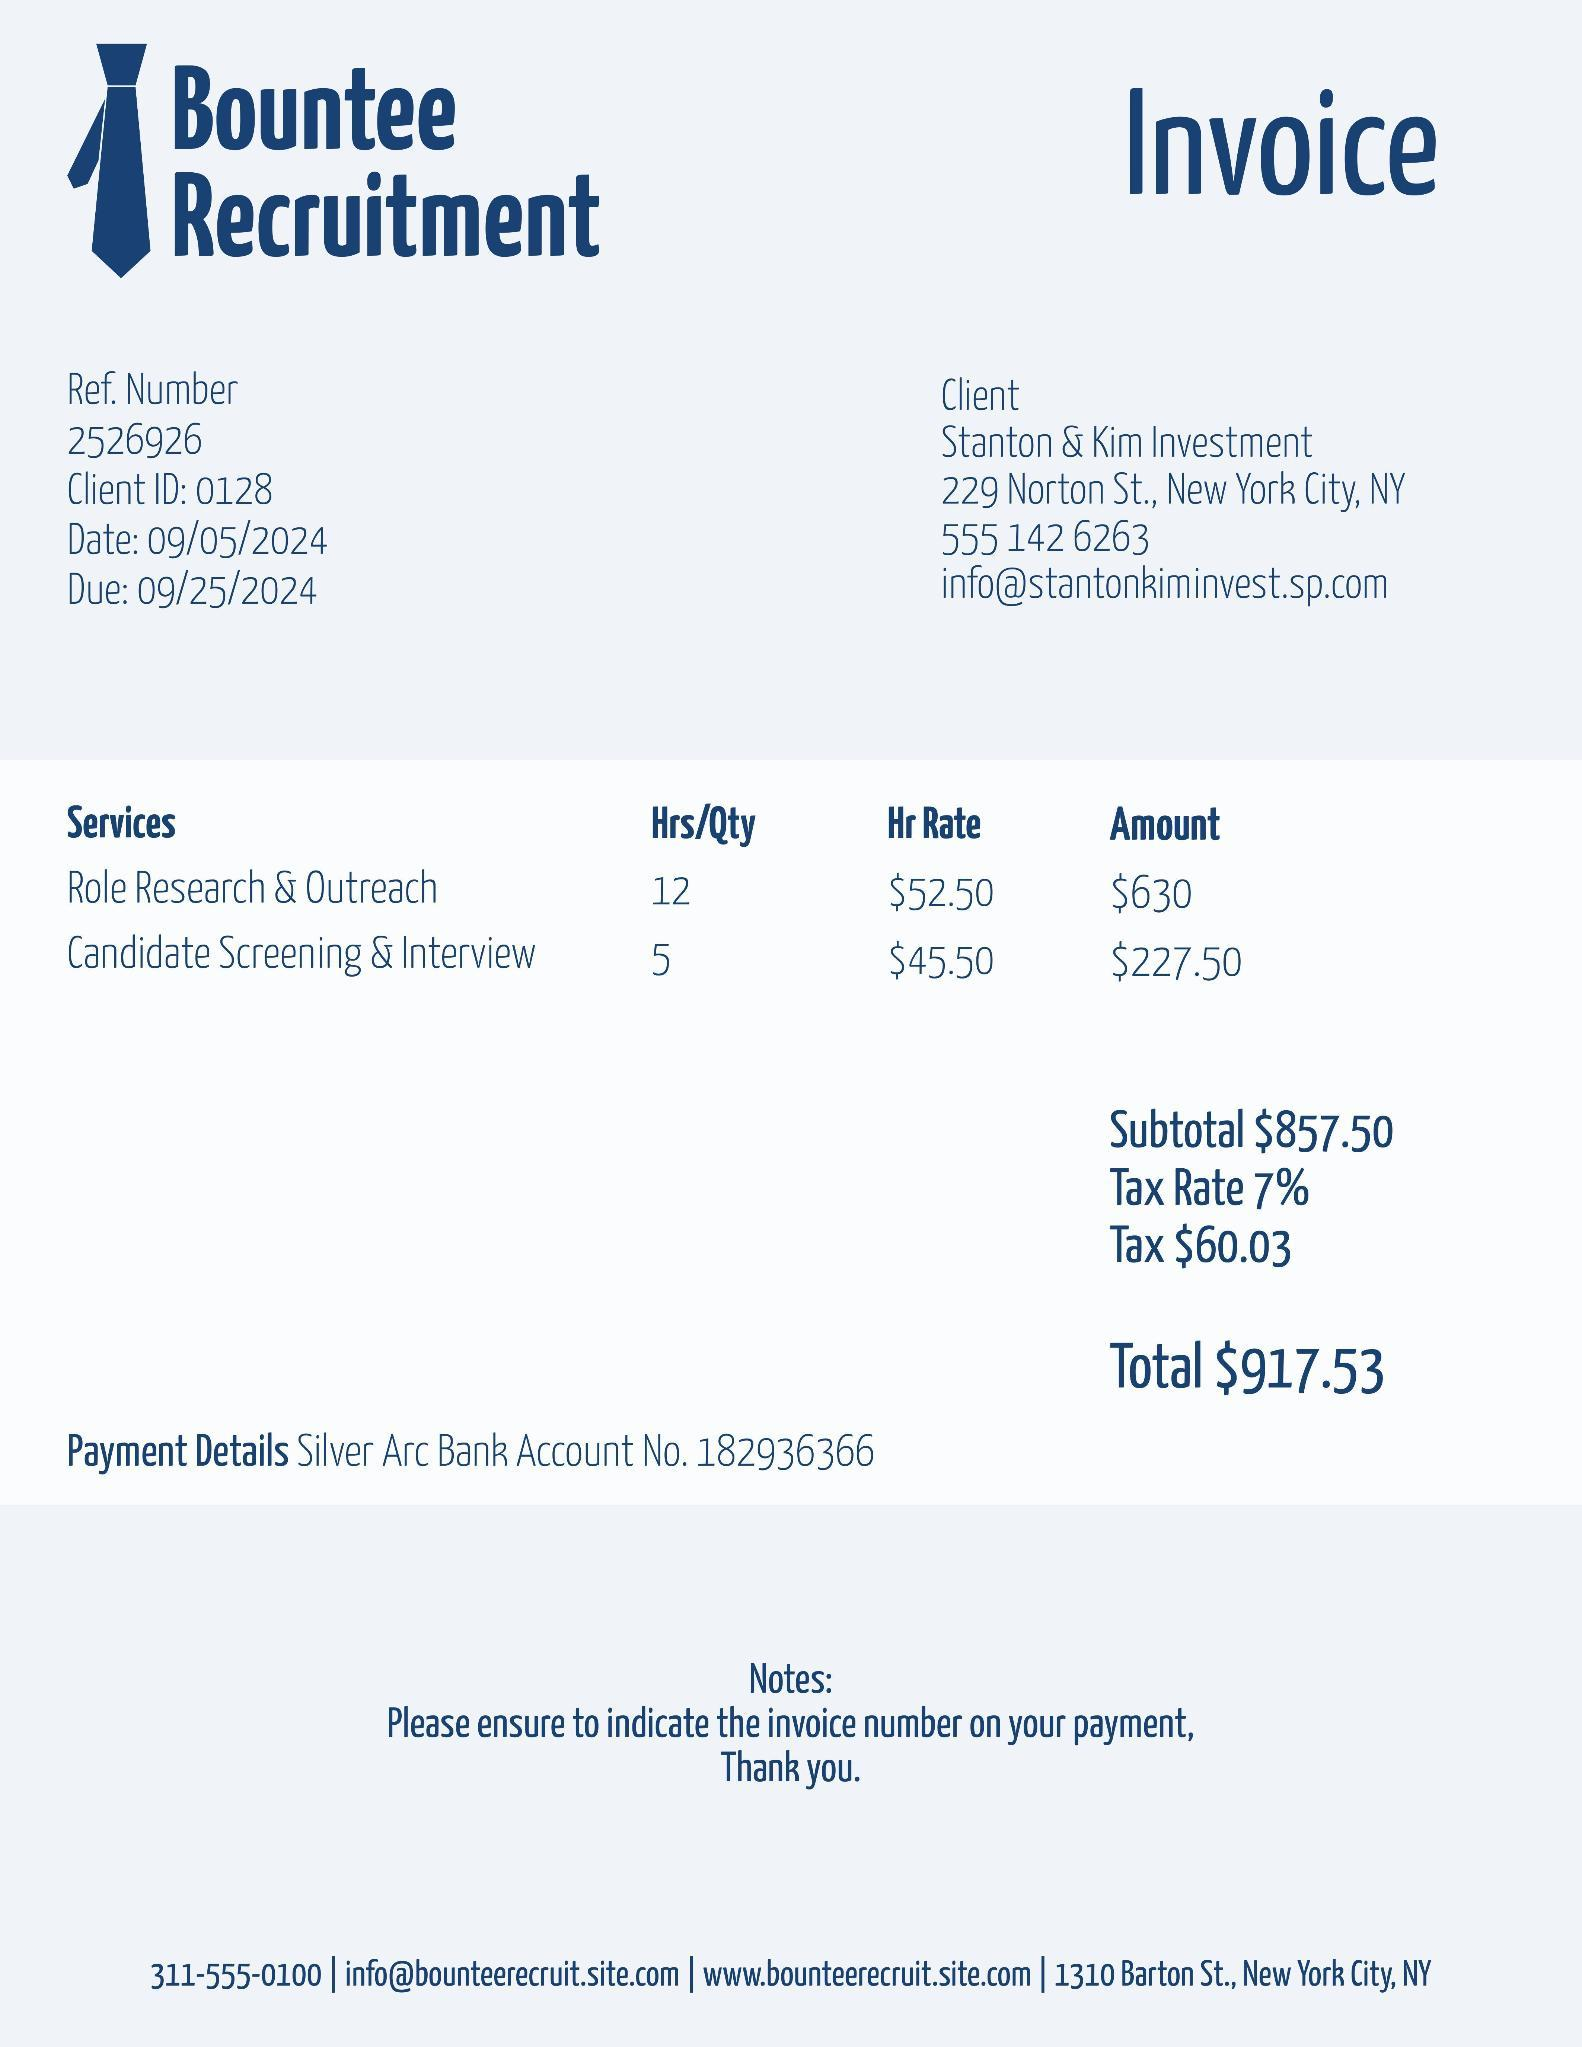ROI: (52, 788, 1273, 1007), (364, 1643, 1253, 1833), (926, 366, 1427, 611), (1093, 1092, 1444, 1397), (161, 50, 602, 277), (136, 1944, 1436, 2010), (60, 366, 342, 615), (61, 1422, 886, 1482), (1115, 75, 1447, 208)
